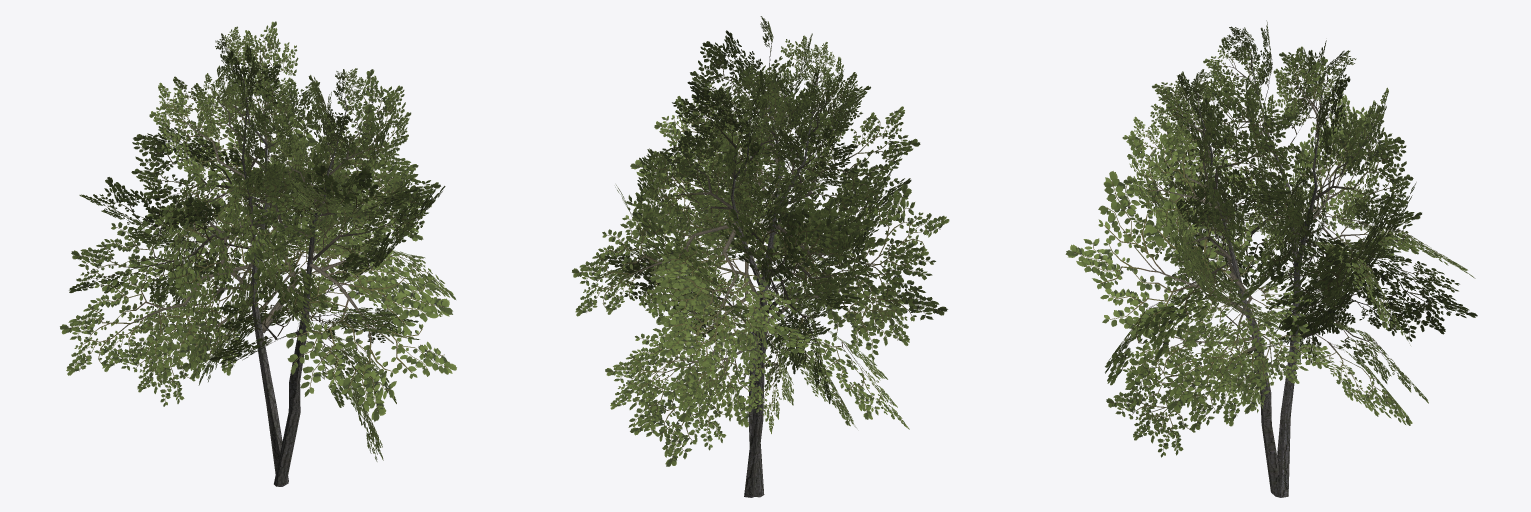
File: tree_2.fbx
The picture shows the model from 3 angles, left to right: view 1: azimuth 30°, elevation 25°; view 2: azimuth 150°, elevation 25°; view 3: azimuth 270°, elevation 25°; orthographic projection.
Parts seen in each view (by area): view 1: Tree-01-2_1; view 2: Tree-01-2_1; view 3: Tree-01-2_1.
Boxes of the visible parts, x1,y1,x2,y2 form: Tree-01-2_1: (60,21,456,486); Tree-01-2_1: (572,16,949,497); Tree-01-2_1: (1065,20,1477,497).
Size of the model in its own units: 655 by 750 by 732.
6 materials, 6 textured.
